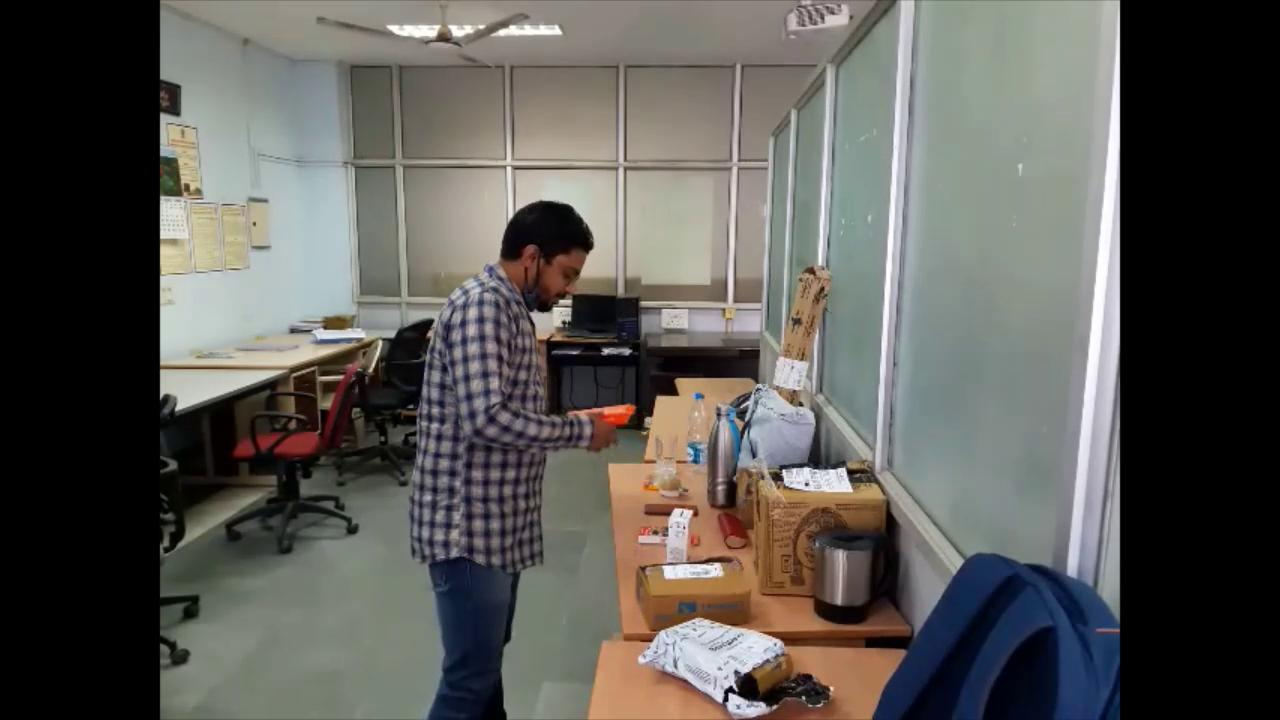Normal: (401, 194, 642, 720)
